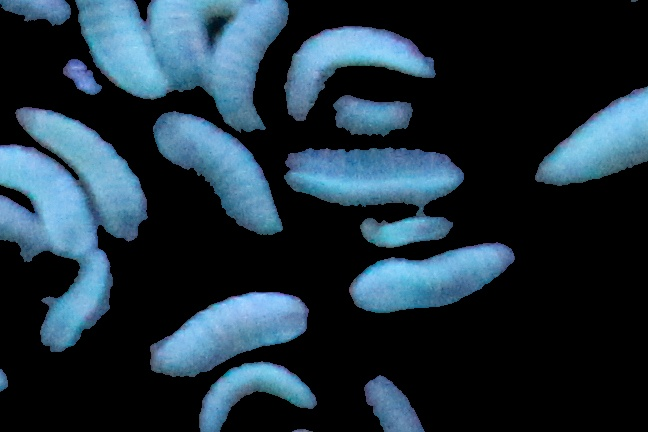larvae: (23, 99, 152, 233), (282, 26, 438, 117), (159, 115, 278, 232), (149, 287, 311, 372), (533, 80, 648, 190), (351, 241, 512, 314), (284, 148, 470, 207), (214, 1, 287, 135), (8, 143, 106, 238), (193, 370, 319, 429), (76, 1, 152, 95), (39, 257, 108, 358), (150, 1, 212, 84), (325, 93, 416, 142), (1, 179, 52, 257), (360, 373, 419, 432), (374, 216, 455, 240), (1, 1, 70, 23)
